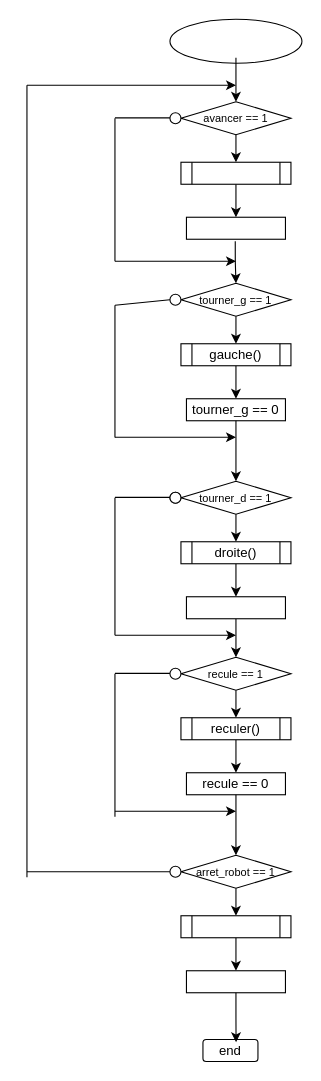
Image size: 321x1081. Some labels were removed from this diagram. The centre of each missing label's shape, as x and y in pixels:
"arret_robot == 0" goes at point (235, 981).
"avancer == 0" goes at point (235, 227).
"avancer20()" goes at point (235, 172).
"Pilotage" goes at point (235, 40).
"stop_robot()" goes at point (235, 926).
"tourner_d == 0" goes at point (235, 607).
